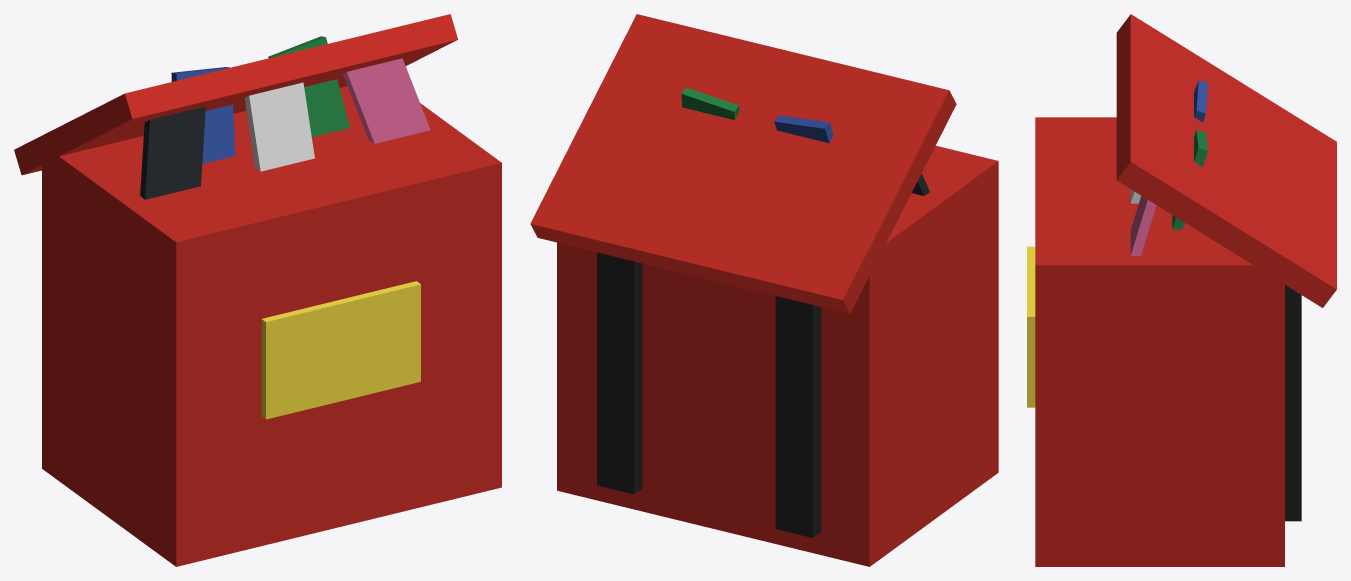
The model's file is thermal_backpack.glb.
The picture shows the model from 3 angles, left to right: view 1: azimuth 30°, elevation 25°; view 2: azimuth 150°, elevation 25°; view 3: azimuth 270°, elevation 25°; orthographic projection. The views are drawn at different scales.
Parts seen in each view (by area): view 1: box_thermal_red, phones, logo_thermal_logo, lid_thermal_red; view 2: box_thermal_red, lid_thermal_red, strap_thermal_strap (×2), phones; view 3: box_thermal_red, lid_thermal_red, strap_thermal_strap, phones, logo_thermal_logo.
Boxes of the visible parts, x1,y1,x2,y2 form: box_thermal_red: (42,86,501,566); phones: (140,36,430,199); logo_thermal_logo: (261,281,420,419); lid_thermal_red: (14,14,457,175); box_thermal_red: (557,145,998,566); lid_thermal_red: (530,14,956,313); strap_thermal_strap (×2): (597,252,821,537); phones: (681,87,929,195); box_thermal_red: (1035,117,1284,566); lid_thermal_red: (1116,14,1336,307); strap_thermal_strap: (1285,285,1301,521); phones: (1130,80,1207,255); logo_thermal_logo: (1027,246,1035,407).
Size of the model in its own units: 0.42 by 0.5371 by 0.3723.
